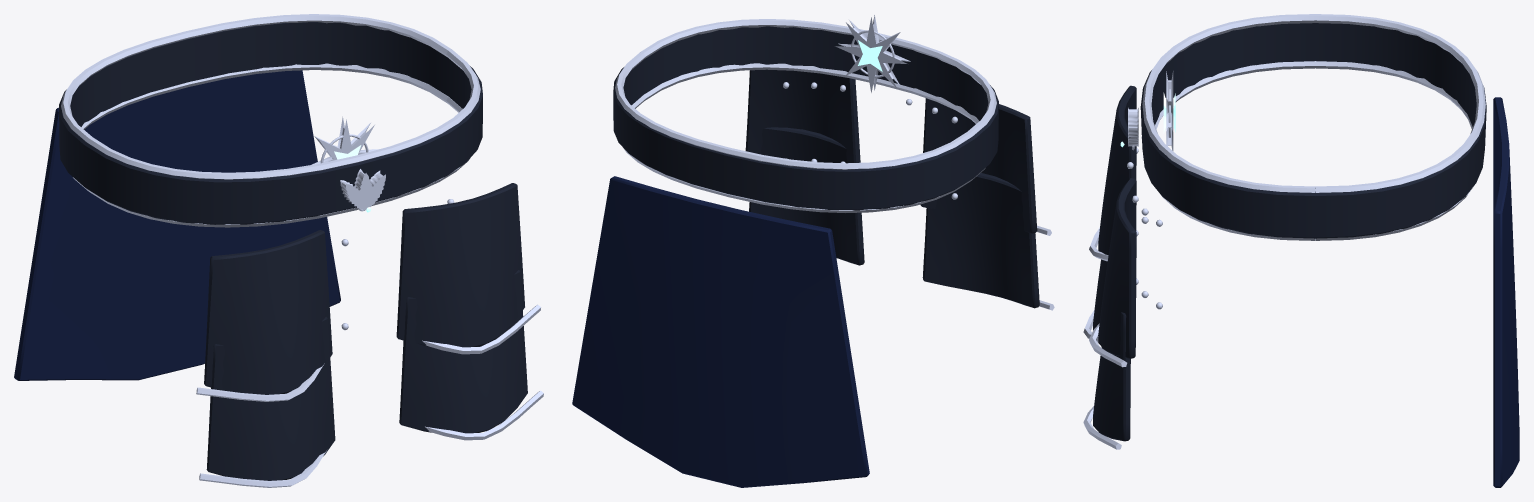
The model's file is asc_comet_strider_inner.glb.
3 renders of one model, left to right at view 1: azimuth 30°, elevation 25°; view 2: azimuth 150°, elevation 25°; view 3: azimuth 270°, elevation 25°, orthographic. The views are drawn at different scales.
Visible parts, largest first — view 1: asc_comet_strider_inner, AT_thigh_R, AT_thigh_L; view 2: asc_comet_strider_inner, AT_thigh_R, AT_thigh_L; view 3: asc_comet_strider_inner, AT_thigh_L, AT_thigh_R.
Boxes of the visible parts, <box> form: asc_comet_strider_inner: <box>14,14,482,380</box>; AT_thigh_R: <box>196,230,348,487</box>; AT_thigh_L: <box>396,183,543,440</box>; asc_comet_strider_inner: <box>572,15,998,487</box>; AT_thigh_R: <box>906,98,1054,310</box>; AT_thigh_L: <box>745,69,864,265</box>; asc_comet_strider_inner: <box>1120,14,1519,487</box>; AT_thigh_L: <box>1083,178,1162,449</box>; AT_thigh_R: <box>1083,85,1148,342</box>.
Size of the model in its own units: 0.4641 by 0.4554 by 0.4788.
